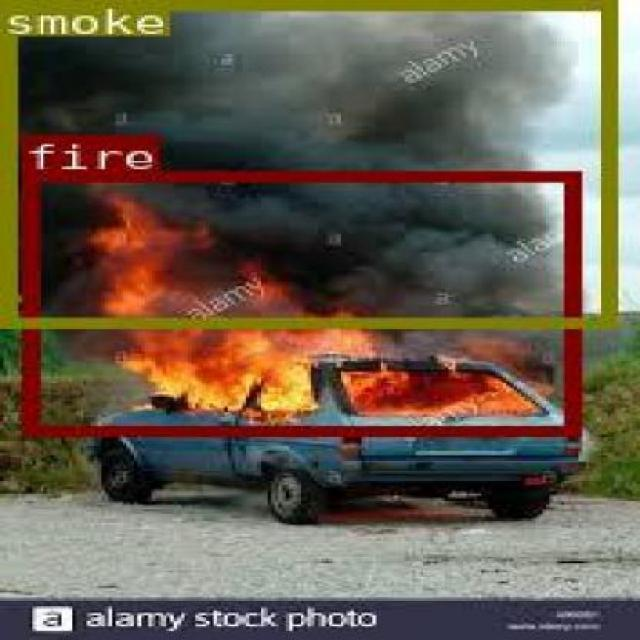Fire: (19, 169, 576, 434)
Smoke: (0, 0, 611, 325)
